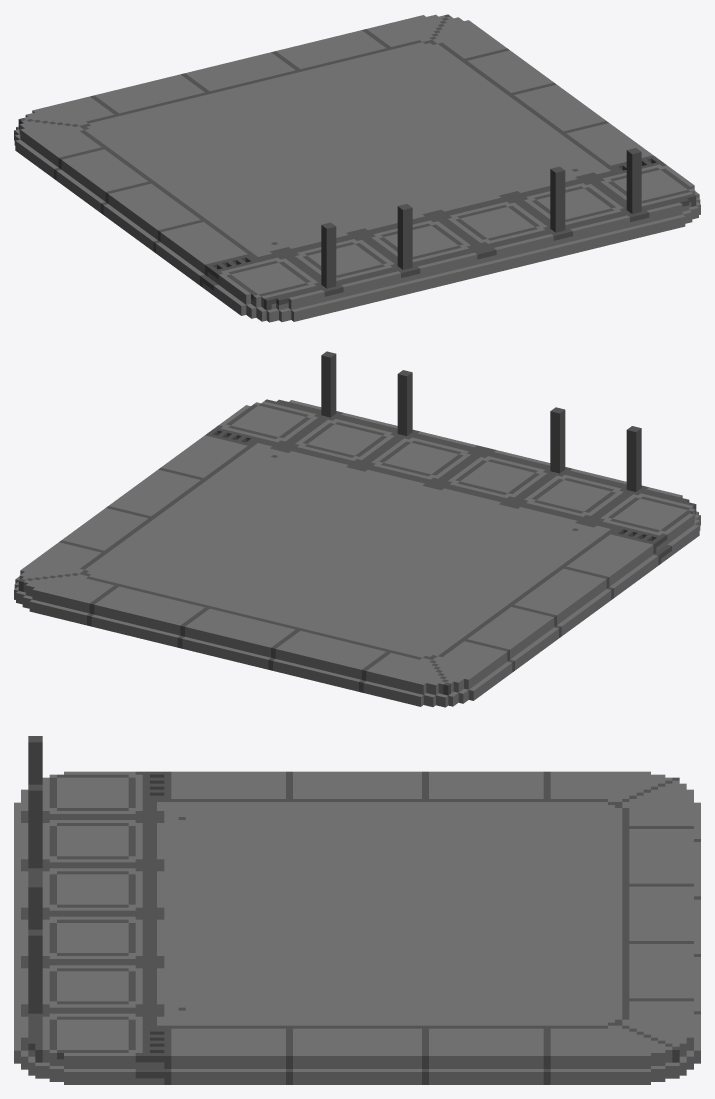
The model's file is baseFive.glb.
The picture shows the model from 3 angles, top to bottom: view 1: azimuth 30°, elevation 25°; view 2: azimuth 150°, elevation 25°; view 3: azimuth 270°, elevation 25°; orthographic projection. The views are drawn at different scales.
Visible parts, largest first — view 1: ObjObject; view 2: ObjObject; view 3: ObjObject.
Boxes of the visible parts, x1,y1,x2,y2 form: ObjObject: (14, 14, 700, 322); ObjObject: (14, 351, 700, 707); ObjObject: (14, 736, 700, 1084).
Size of the model in its own units: 9.6 by 1.6 by 9.6.
1 material, 1 textured.
